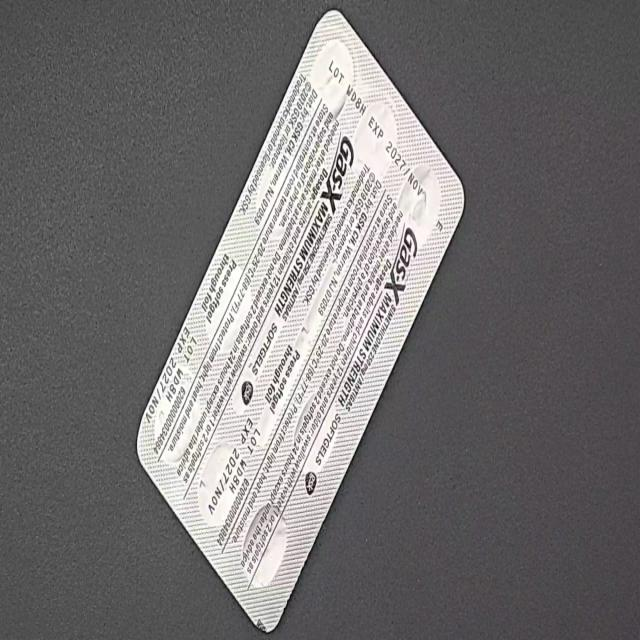no defect: (10, 19, 30, 56)
